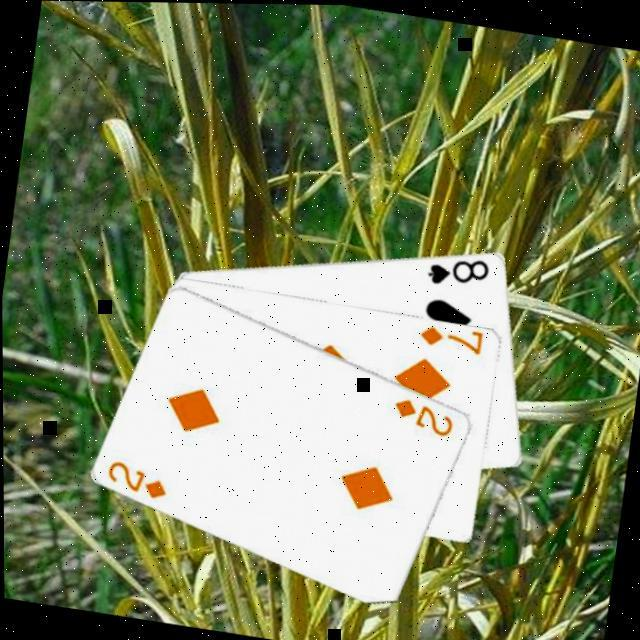2D: (100, 454, 172, 502), (388, 391, 458, 439)
7D: (414, 320, 485, 356)
8S: (422, 246, 492, 293)
